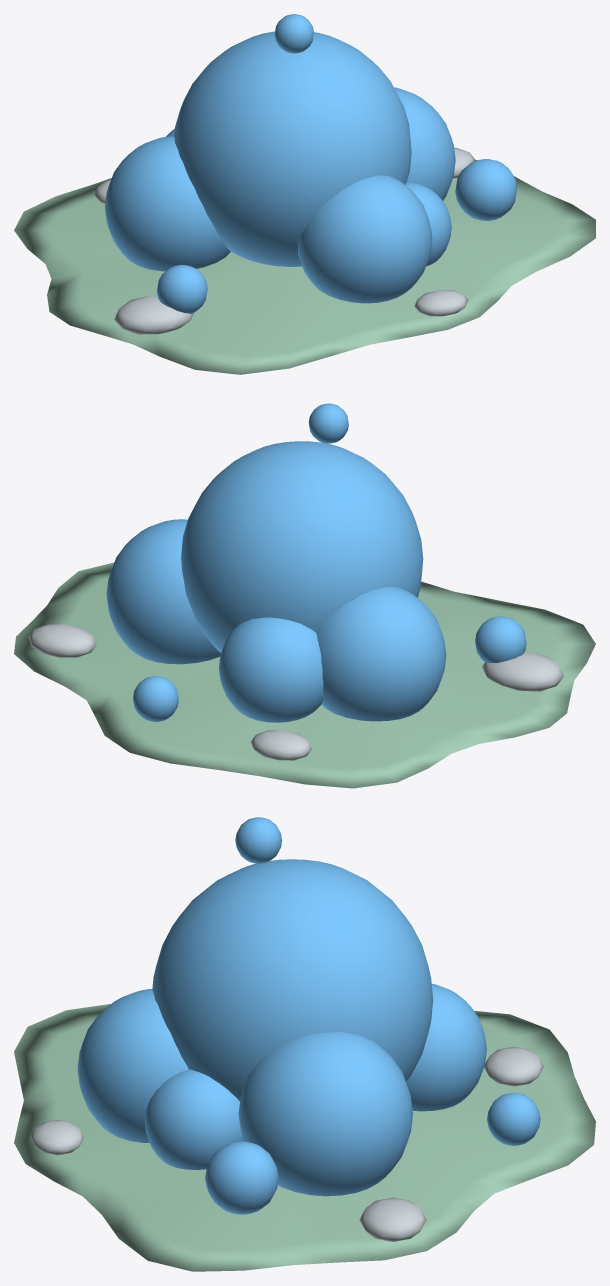
Rendered from WaterBubbles.fbx.
3 views of the same model, one above another, from view 1: azimuth 30°, elevation 25°; view 2: azimuth 150°, elevation 25°; view 3: azimuth 270°, elevation 25° (orthographic). The views are drawn at different scales.
Parts seen in each view (by area): view 1: Bubbles, MossBed, Droplet_0, Droplet_1, Droplet_3; view 2: Bubbles, MossBed, Droplet_1, Droplet_2, Droplet_3; view 3: Bubbles, MossBed, Droplet_0, Droplet_2, Droplet_3.
Part boxes in pixels (left/top/right/bottom): Bubbles: left=105, top=31, right=455, bottom=303; MossBed: left=14, top=147, right=595, bottom=374; Droplet_0: left=455, top=159, right=517, bottom=220; Droplet_1: left=157, top=264, right=207, bottom=313; Droplet_3: left=274, top=14, right=313, bottom=53; Bubbles: left=106, top=441, right=446, bottom=722; MossBed: left=14, top=562, right=595, bottom=788; Droplet_1: left=475, top=616, right=526, bottom=663; Droplet_2: left=133, top=676, right=178, bottom=721; Droplet_3: left=308, top=403, right=348, bottom=443; Bubbles: left=77, top=859, right=486, bottom=1196; MossBed: left=14, top=1004, right=595, bottom=1271; Droplet_0: left=205, top=1141, right=278, bottom=1214; Droplet_2: left=487, top=1092, right=540, bottom=1145; Droplet_3: left=235, top=817, right=282, bottom=863.
Bounding box in the file's own units: 2.05 × 1.02 × 1.73.
